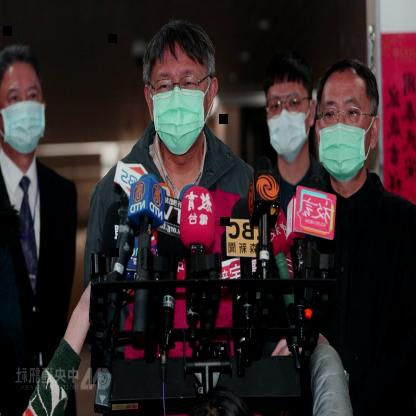mask: (138, 15, 222, 159), (312, 56, 384, 188), (262, 42, 319, 164), (0, 38, 57, 159)
